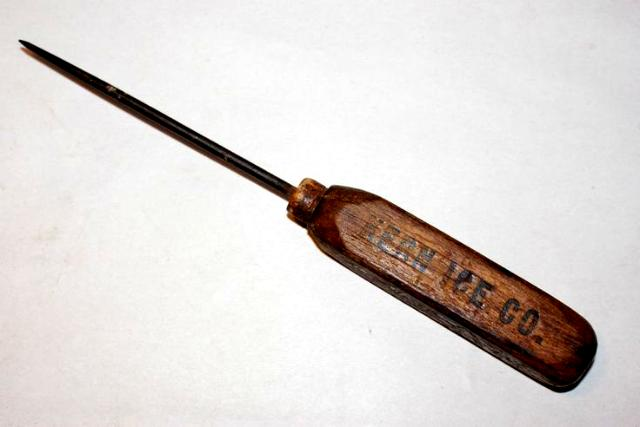ice pick: (18, 37, 598, 390)
